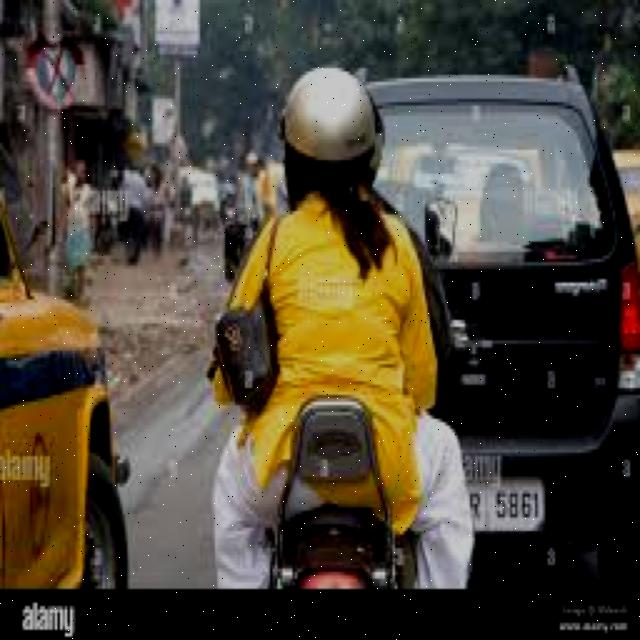not_triplets: (202, 55, 465, 591)
with-helmet: (280, 61, 378, 188)
